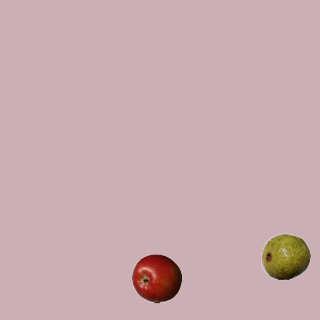Apple Braeburn: (131, 253, 181, 303)
Guava: (260, 231, 310, 281)
